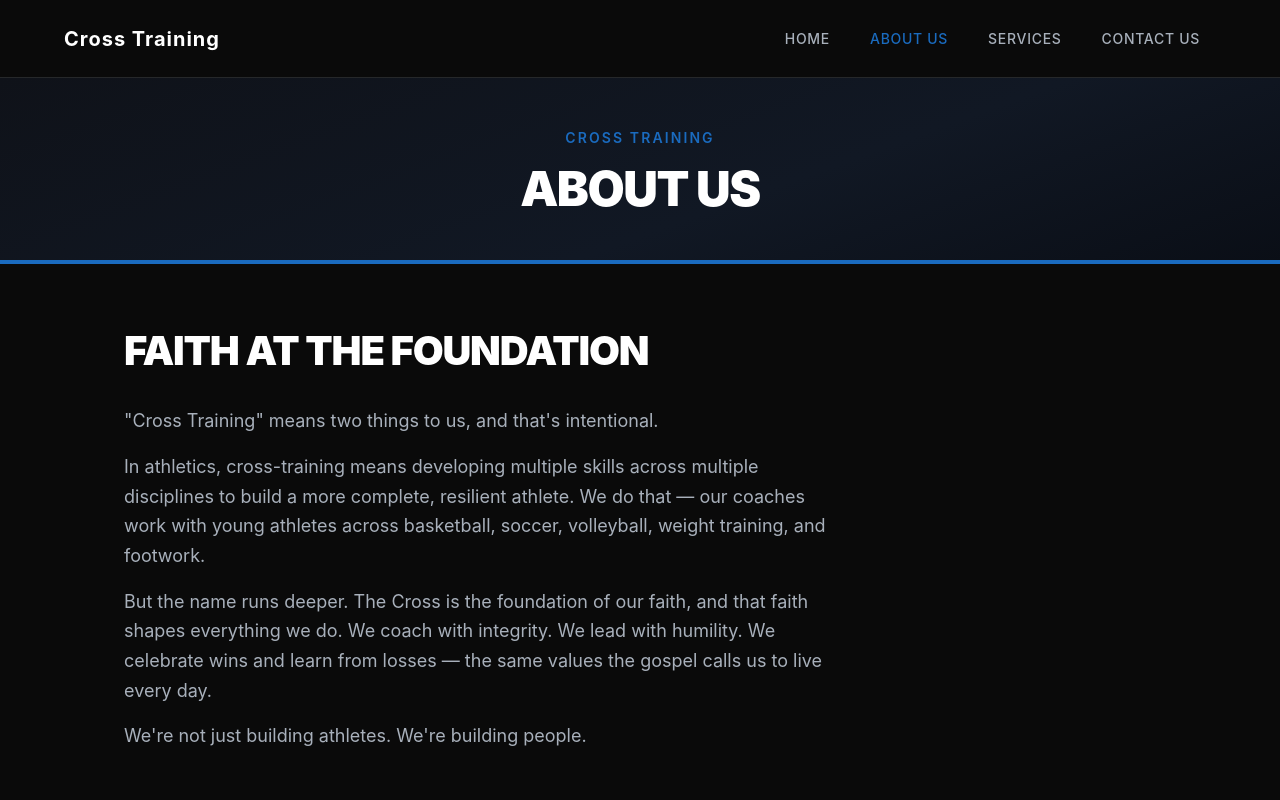
it: App routing — integration › navigates to the Services page when the "Services" nav link is clicked
Click the link "Services" at (1025, 38), box [988, 30, 1062, 47]
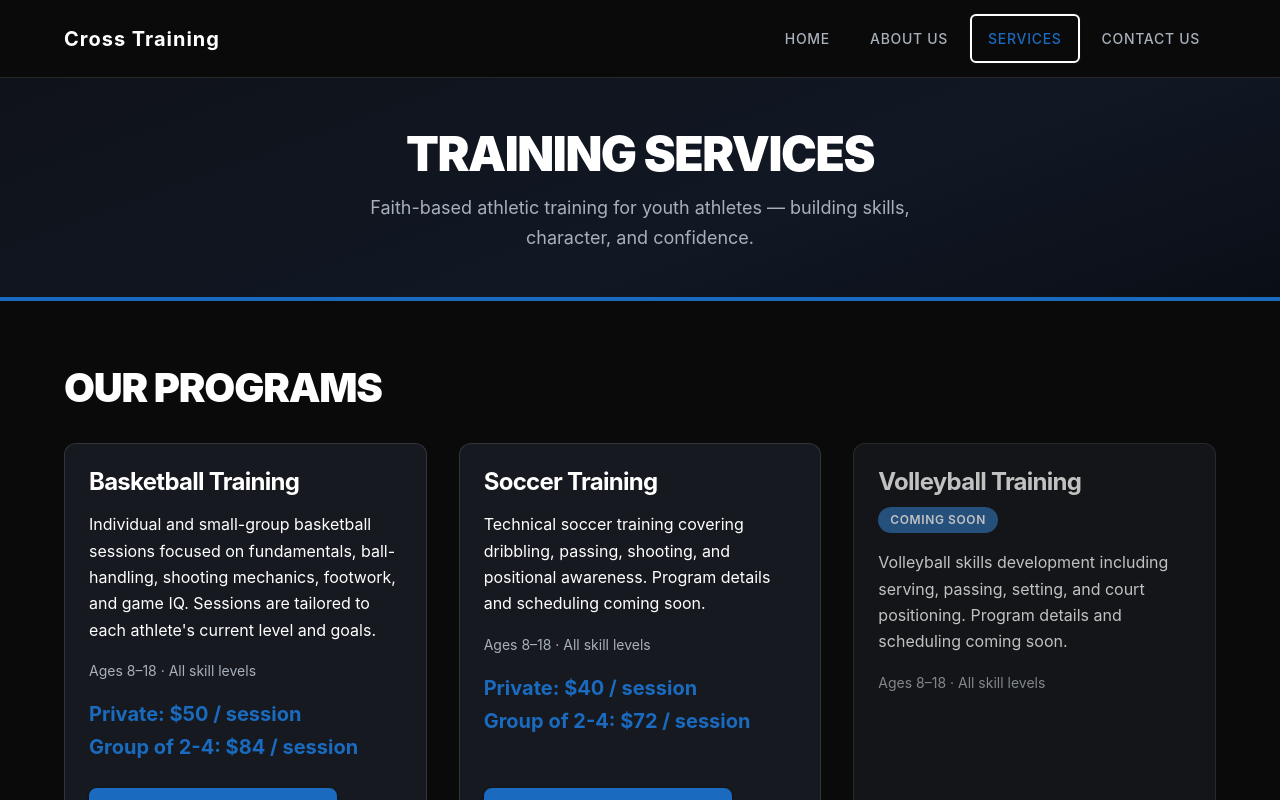
Now the heading "Training Services" is shown, box [406, 124, 874, 183]
